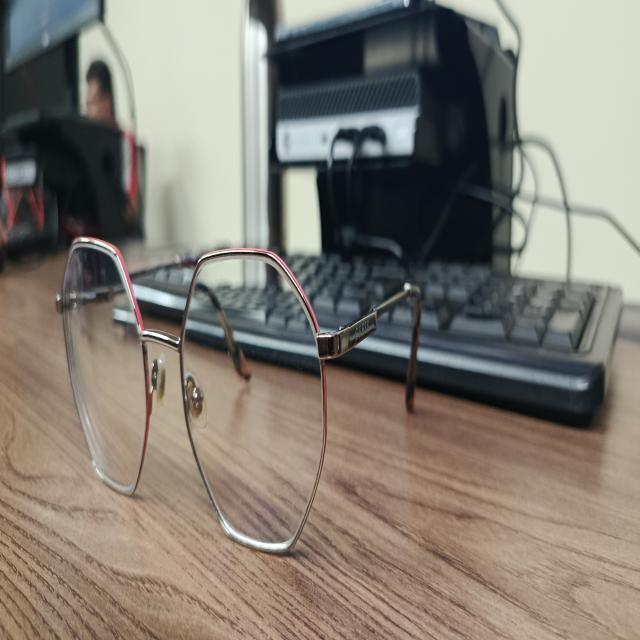sem_oculos: (47, 236, 425, 561)
